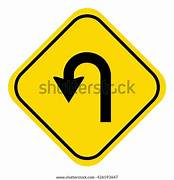back: (7, 7, 167, 167)
